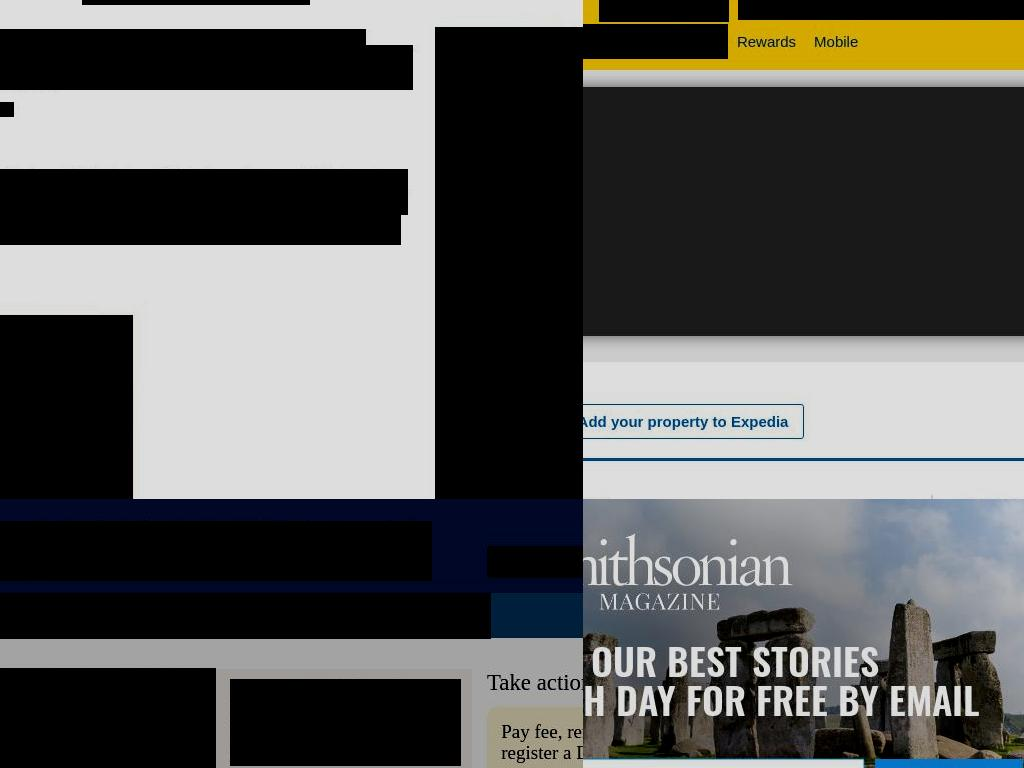button: (583, 499, 1024, 768), (230, 679, 461, 766), (583, 403, 804, 439), (212, 593, 367, 639), (65, 593, 213, 639), (487, 706, 583, 768), (366, 593, 491, 639), (583, 24, 672, 59), (0, 593, 66, 639), (599, 0, 729, 22), (727, 24, 806, 59), (805, 24, 868, 59), (671, 24, 728, 59), (738, 0, 822, 20), (875, 758, 1024, 768), (821, 0, 893, 20), (957, 0, 1024, 20), (892, 0, 958, 20)
field: (487, 546, 583, 578), (583, 758, 864, 768)
heading: (230, 679, 461, 743), (583, 499, 1024, 532), (583, 105, 1024, 132), (487, 668, 583, 696)
iframe: (435, 27, 583, 499), (0, 315, 133, 499)
image: (583, 499, 1024, 768), (583, 532, 796, 611)
link: (230, 747, 461, 766)
text: (0, 521, 432, 581), (583, 670, 979, 727), (0, 169, 408, 215), (0, 45, 413, 90), (0, 200, 401, 245), (583, 631, 879, 688), (0, 29, 366, 60), (583, 144, 1024, 168), (501, 721, 583, 764), (0, 45, 204, 60), (226, 608, 353, 626), (79, 608, 199, 626), (380, 608, 477, 626), (583, 33, 663, 50), (736, 33, 796, 50), (0, 608, 51, 626), (814, 33, 859, 50), (680, 33, 719, 50), (829, 0, 878, 12), (746, 0, 794, 12), (965, 0, 1012, 12), (203, 45, 228, 60)
